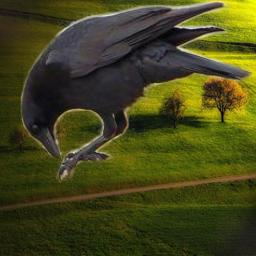Crow: (20, 1, 252, 183)
